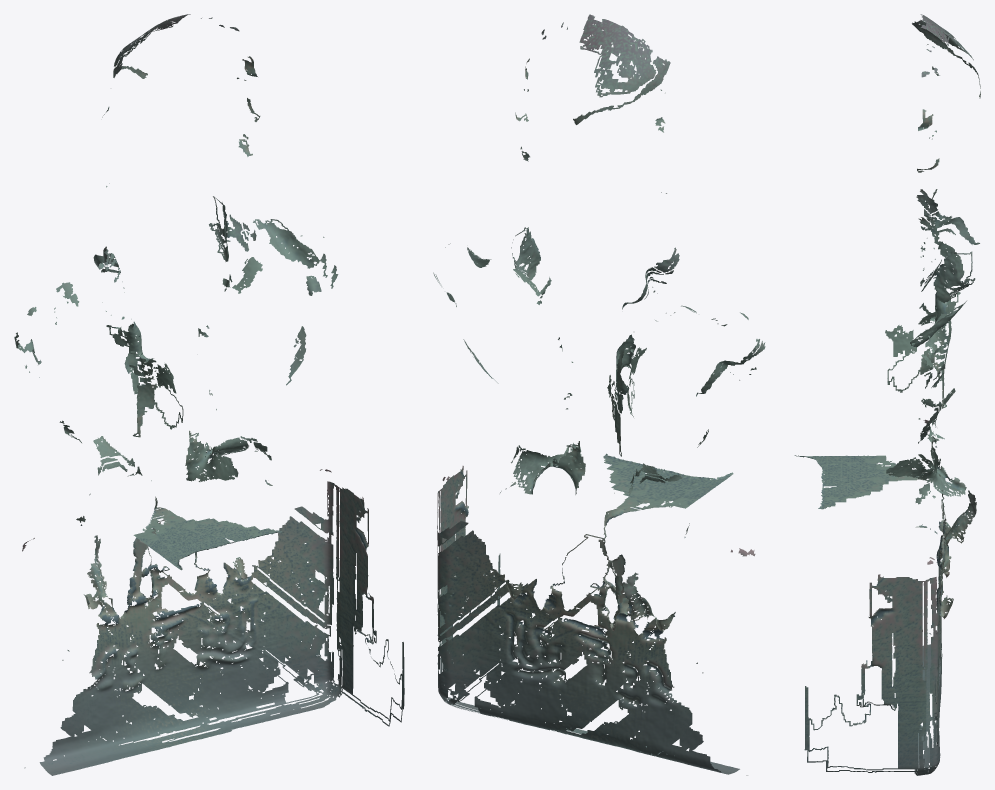
The model's file is cthulhu17_material_0.017_lev1.glb.
3 views of the same model, side by side, from view 1: azimuth 30°, elevation 25°; view 2: azimuth 150°, elevation 25°; view 3: azimuth 270°, elevation 25° (orthographic). The views are drawn at different scales.
Parts seen in each view (by area): view 1: cthulhu17_material_0.017_lev1; view 2: cthulhu17_material_0.017_lev1; view 3: cthulhu17_material_0.017_lev1.
Part boxes in pixels (left/top/right/bottom): cthulhu17_material_0.017_lev1: left=14, top=14, right=404, bottom=775; cthulhu17_material_0.017_lev1: left=433, top=14, right=765, bottom=775; cthulhu17_material_0.017_lev1: left=794, top=14, right=980, bottom=775.
Size of the model in its own units: 2.49 by 5.29 by 1.3.
